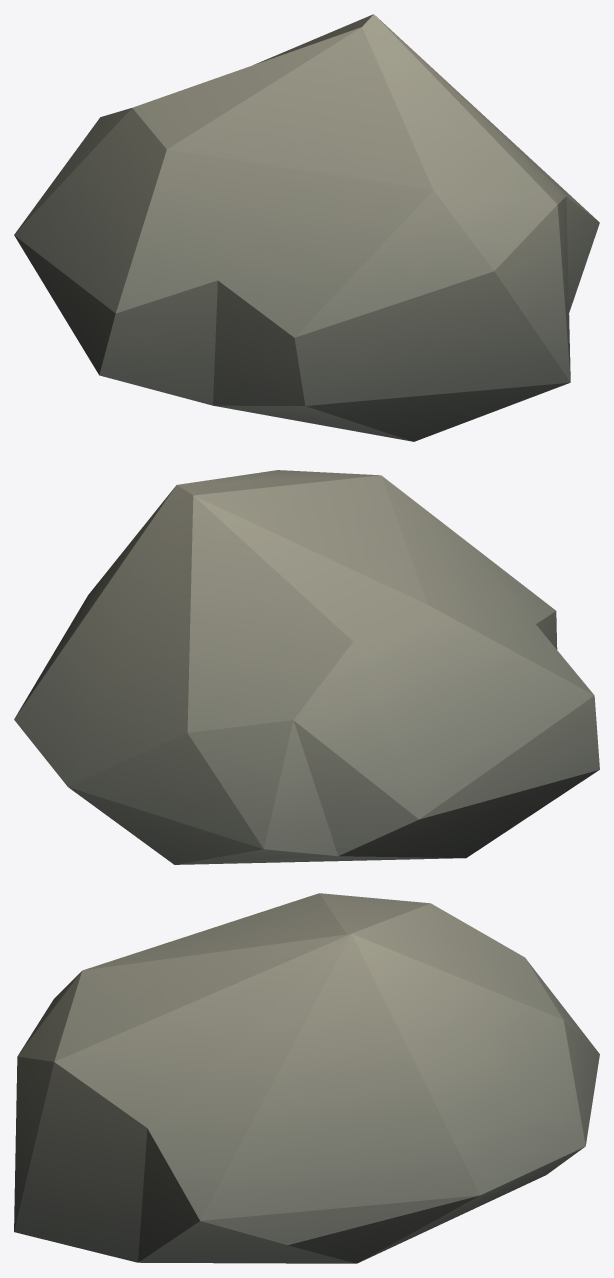
File: rock_1_04.fbx
The picture shows the model from 3 angles, top to bottom: view 1: azimuth 30°, elevation 25°; view 2: azimuth 150°, elevation 25°; view 3: azimuth 270°, elevation 25°; orthographic projection. The views are drawn at different scales.
Visible parts, largest first — view 1: rock_1_04; view 2: rock_1_04; view 3: rock_1_04.
Part boxes in pixels (left/top/right/bottom): rock_1_04: left=14, top=14, right=599, bottom=441; rock_1_04: left=14, top=470, right=599, bottom=864; rock_1_04: left=14, top=893, right=599, bottom=1263.
Size of the model in its own units: 13.61 by 8.83 by 13.19.
